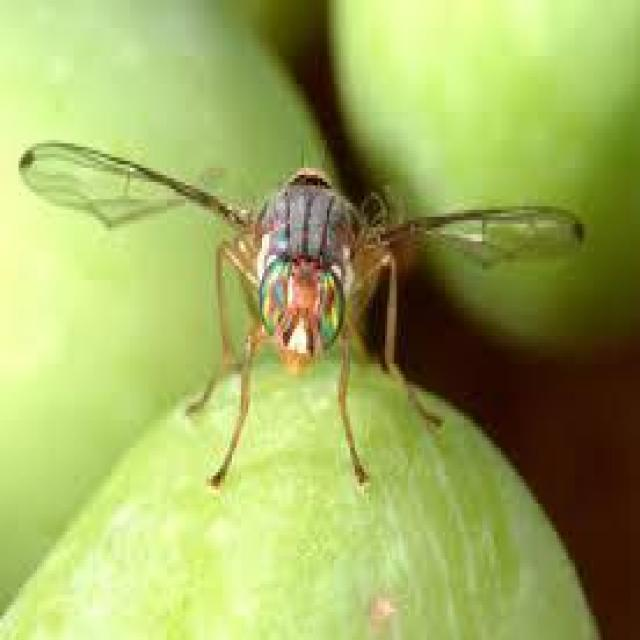Olive Fruit Fly: (19, 140, 582, 511)
